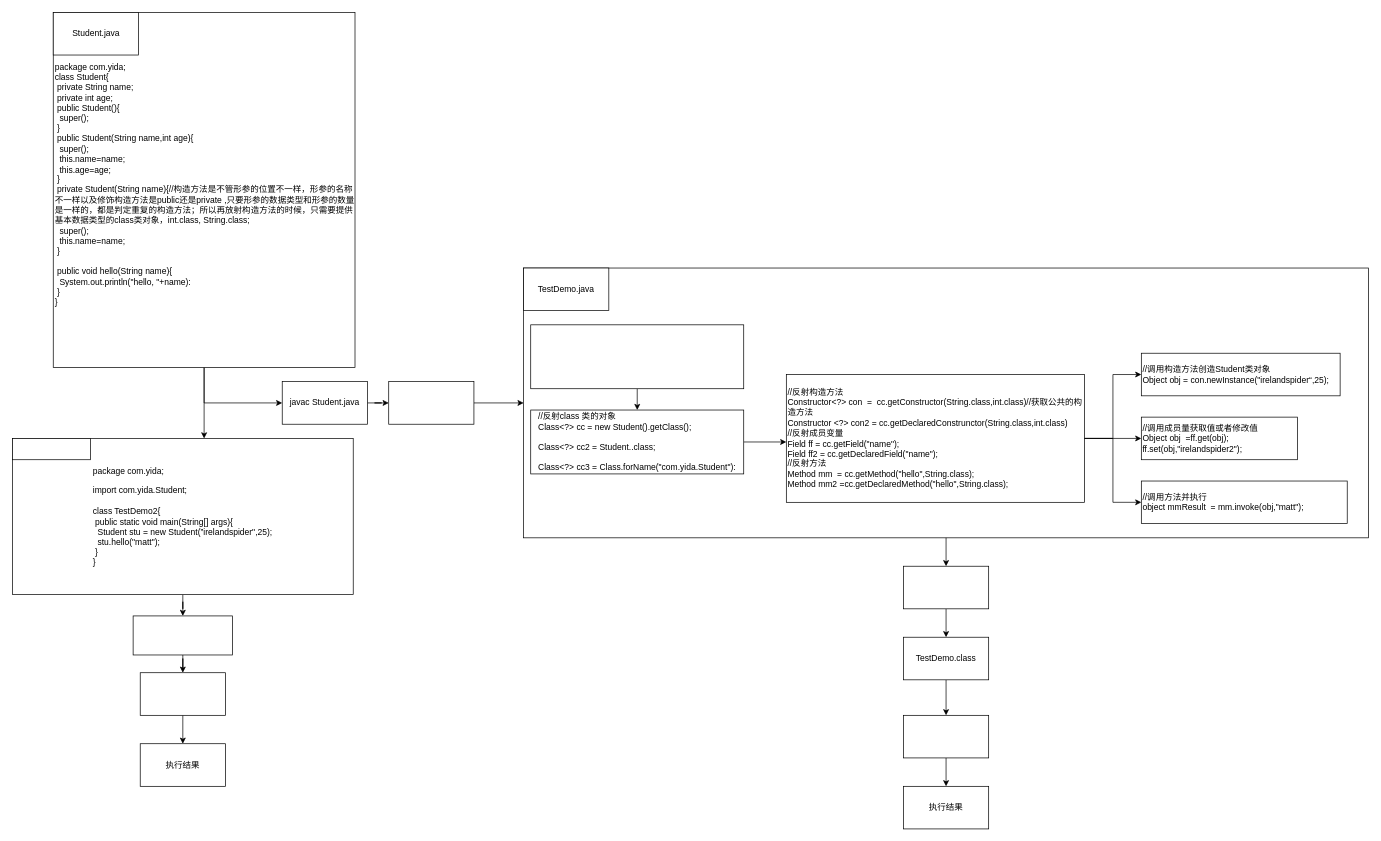
Image size: 1381x841. Some labels were removed from this diagram. Here are the shapes that lost their labels. From the top down, the centre of each, then its label:
the point at 637,356: publci class TesDemo{ public static void main(String[] args){ ... } }
the point at 431,402: Student.class格式文件
the point at 51,449: TestDemo2.java
the point at 946,587: javac TestDemo.java
the point at 182,635: javac TestDemo2.java
the point at 182,693: java TestDemo2
the point at 946,736: java TestDemo.class
